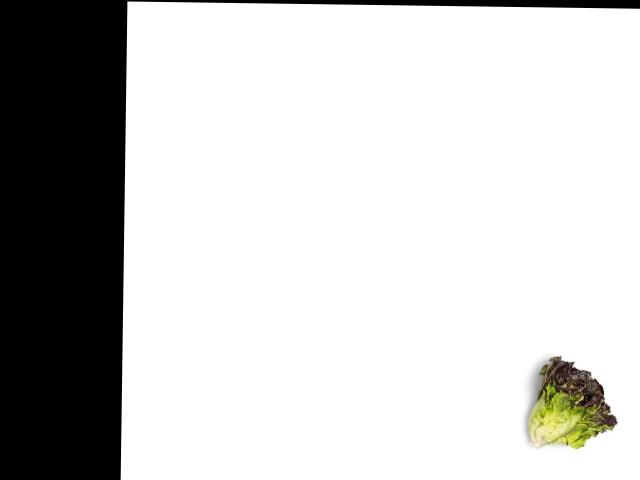lettuce: (527, 350, 616, 452)
